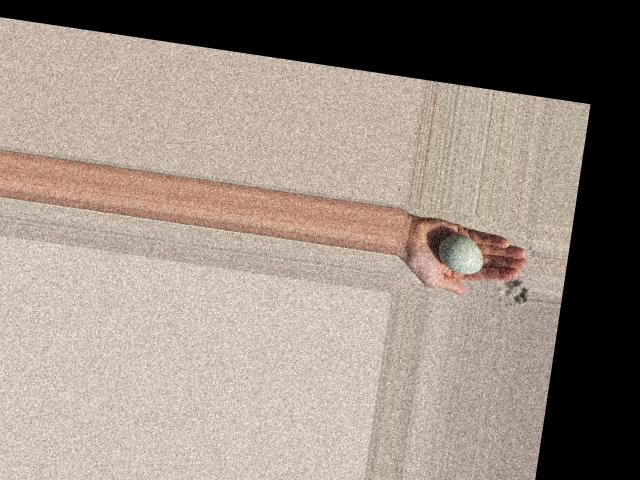egg: (437, 231, 486, 275)
